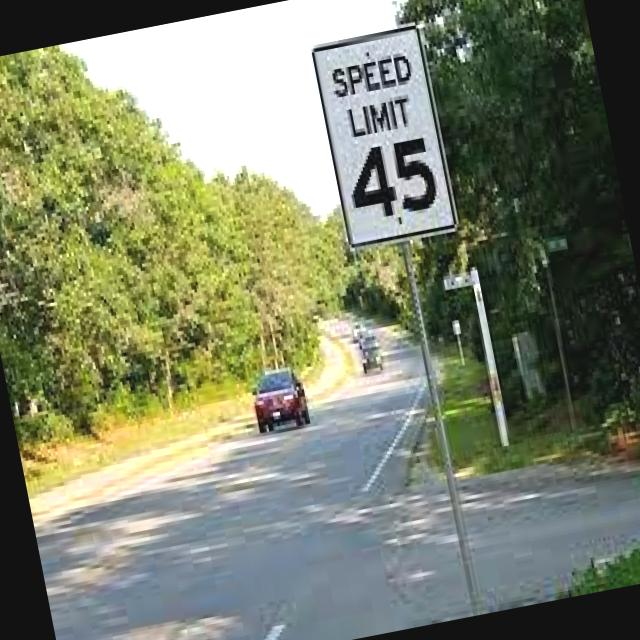Speed Limit Signs: (304, 17, 462, 256)
